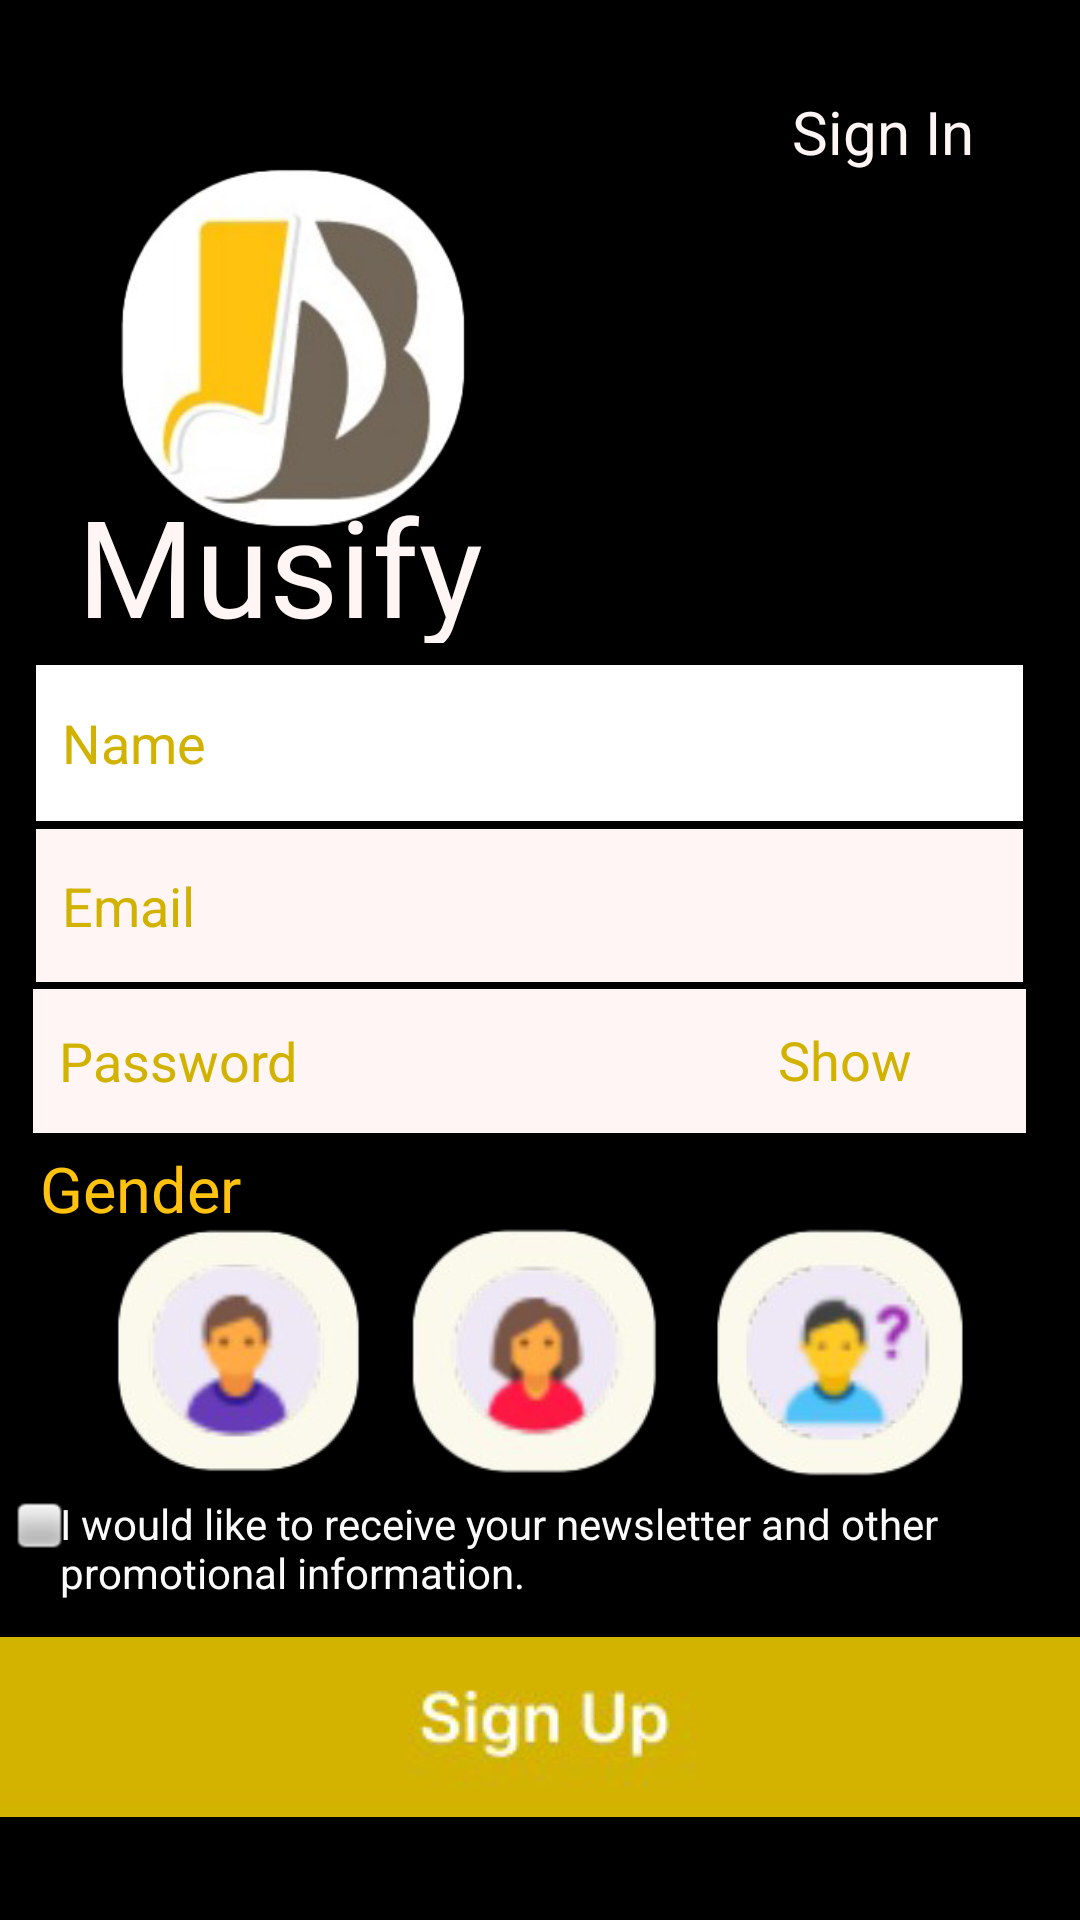

Icons on this 1080x1920 Android screen, each with its box as (x1, y1, x2, y2):
genderother: (717, 1230, 963, 1476)
